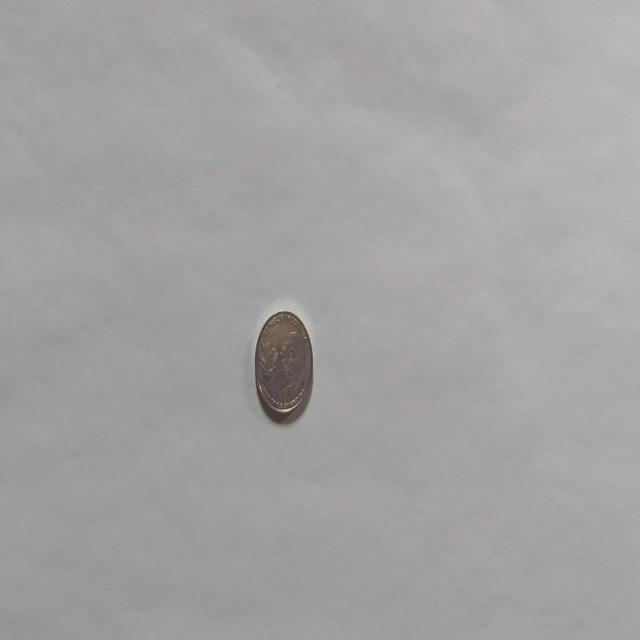lima ratus rupiah: (253, 308, 313, 422)
